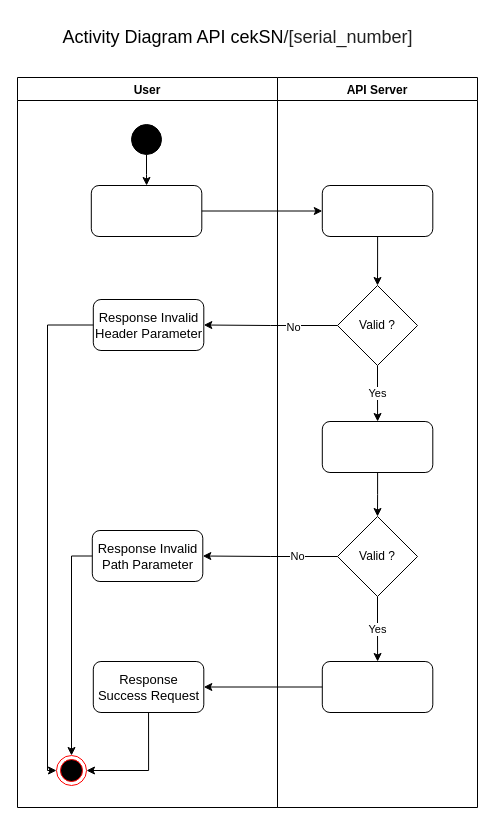
This 495x825 diagram has some shape labels left out. Each missing label, with the centre of its shape:
Checking Header Parameters: [377,210]
Checking Path Parameters: [377,446]
Send Request: [146,210]
Sending Request Data: [377,686]
